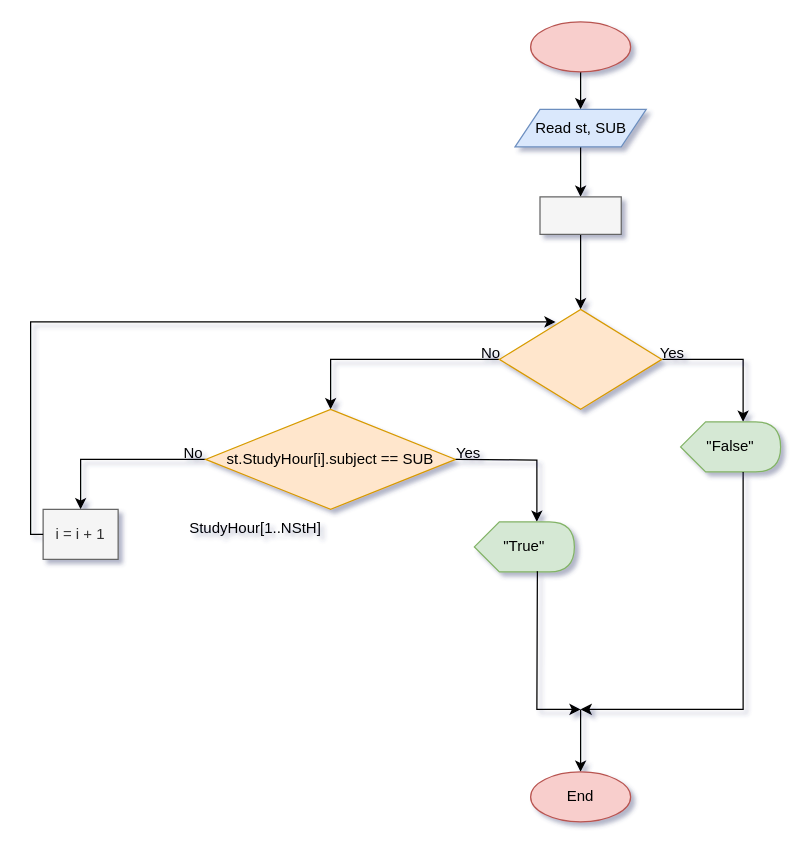
Some shapes in this 810 by 851 pixel diagram are drawn without their labels. The shapes that lost their labels are listed below. From the top down, each one's box as (x1, y1, x2, y2) in pixels, then its label:
(529, 21, 631, 72): Begin
(539, 196, 621, 234): i = 1
(498, 308, 662, 409): i == st.NStH
